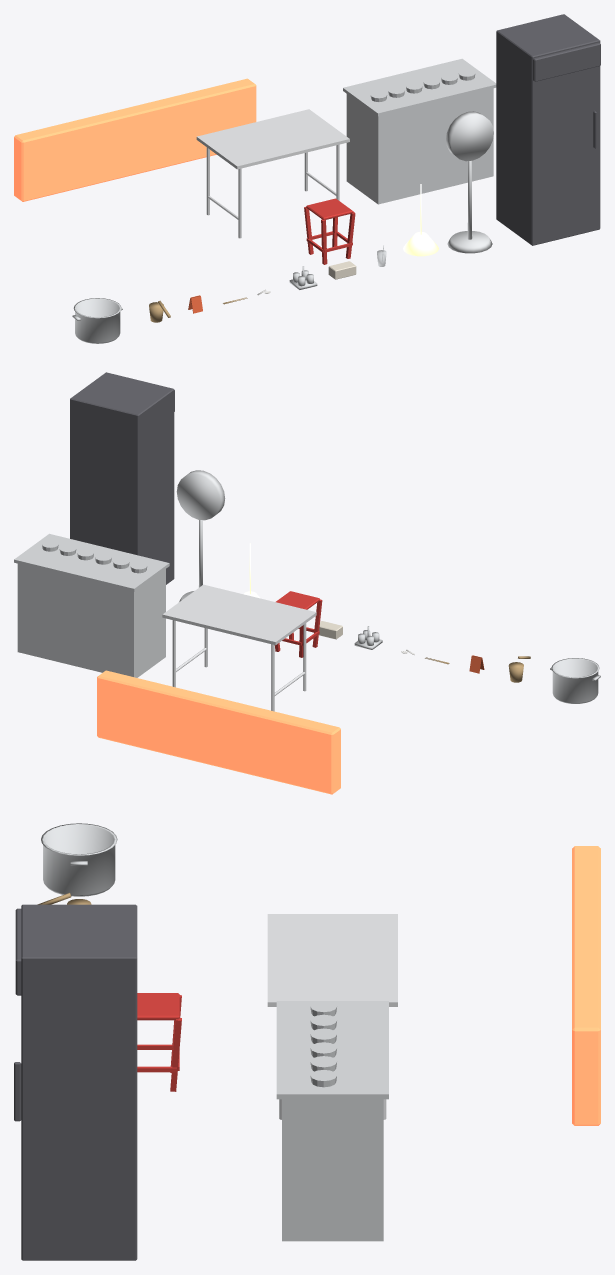
Rendered from Phase4_Props_DiningShop.glb.
3 views of the same model, one above another, from view 1: azimuth 30°, elevation 25°; view 2: azimuth 150°, elevation 25°; view 3: azimuth 270°, elevation 25° (orthographic). The views are drawn at different scales.
Parts seen in each view (by area): view 1: Fridge_Drinks, CondimentBar, ShopSign, Table_Folding, StandFan, CookingPot, Stool_Plastic, CeilingLight; view 2: Fridge_Drinks, CondimentBar, ShopSign, Table_Folding, StandFan, CookingPot, Stool_Plastic; view 3: Fridge_Drinks, CondimentBar, Table_Folding, ShopSign, CookingPot, Stool_Plastic.
Part boxes in pixels (left/top/right/bottom): Fridge_Drinks: left=496, top=14, right=600, bottom=245; CondimentBar: left=343, top=58, right=496, bottom=204; ShopSign: left=14, top=78, right=256, bottom=201; Table_Folding: left=196, top=109, right=349, bottom=238; StandFan: left=446, top=111, right=493, bottom=253; CookingPot: left=72, top=298, right=122, bottom=343; Stool_Plastic: left=304, top=198, right=355, bottom=264; CeilingLight: left=403, top=184, right=438, bottom=256; Fridge_Drinks: left=70, top=372, right=174, bottom=584; CondimentBar: left=14, top=533, right=169, bottom=677; ShopSign: left=97, top=670, right=340, bottom=794; Table_Folding: left=162, top=584, right=316, bottom=711; StandFan: left=176, top=470, right=225, bottom=602; CookingPot: left=550, top=658, right=600, bottom=703; Stool_Plastic: left=274, top=591, right=322, bottom=657; Fridge_Drinks: left=14, top=904, right=137, bottom=1260; CondimentBar: left=276, top=1001, right=388, bottom=1241; Table_Folding: left=267, top=914, right=397, bottom=1119; ShopSign: left=572, top=846, right=600, bottom=1125; CookingPot: left=41, top=823, right=117, bottom=896; Stool_Plastic: left=137, top=993, right=181, bottom=1091.
Bounding box in the file's own units: 5.18 × 1.85 × 3.24.
